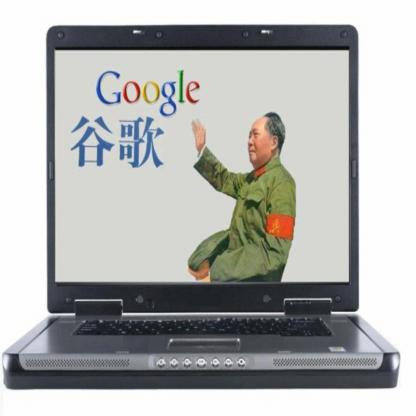board: (0, 6, 385, 402)
